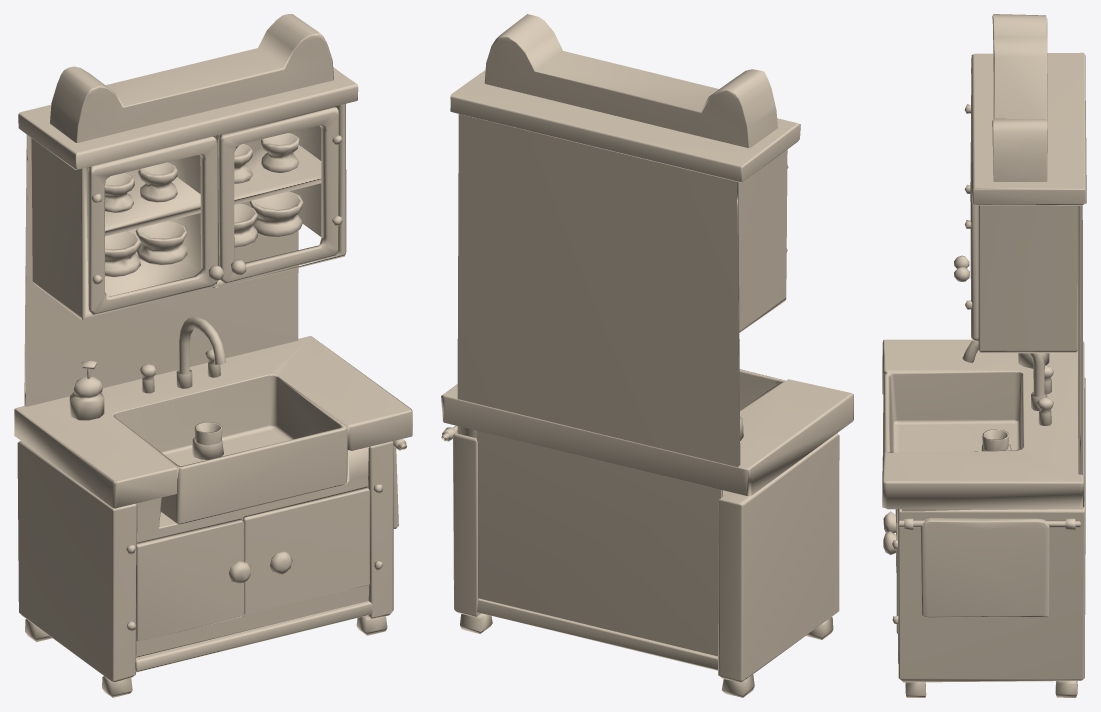
The model's file is kitchen-5-geometry.glb.
3 views of the same model, side by side, from view 1: azimuth 30°, elevation 25°; view 2: azimuth 150°, elevation 25°; view 3: azimuth 270°, elevation 25° (orthographic). The views are drawn at different scales.
Bounding box in the file's own units: 0.5586 × 1 × 0.3291.
